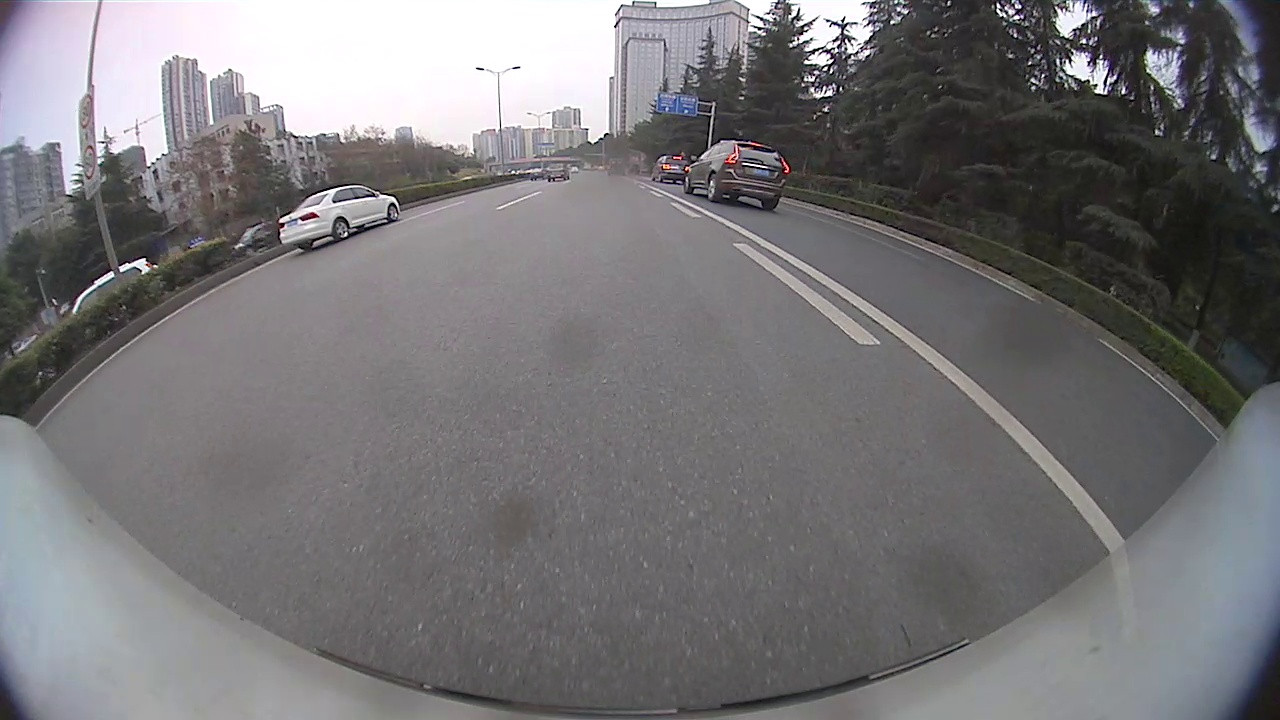car: (681, 137, 793, 214), (279, 185, 401, 251), (64, 255, 156, 317), (649, 153, 688, 183), (544, 162, 570, 182)
front: (388, 206, 401, 222)
rear: (705, 175, 720, 203), (332, 221, 350, 240)
